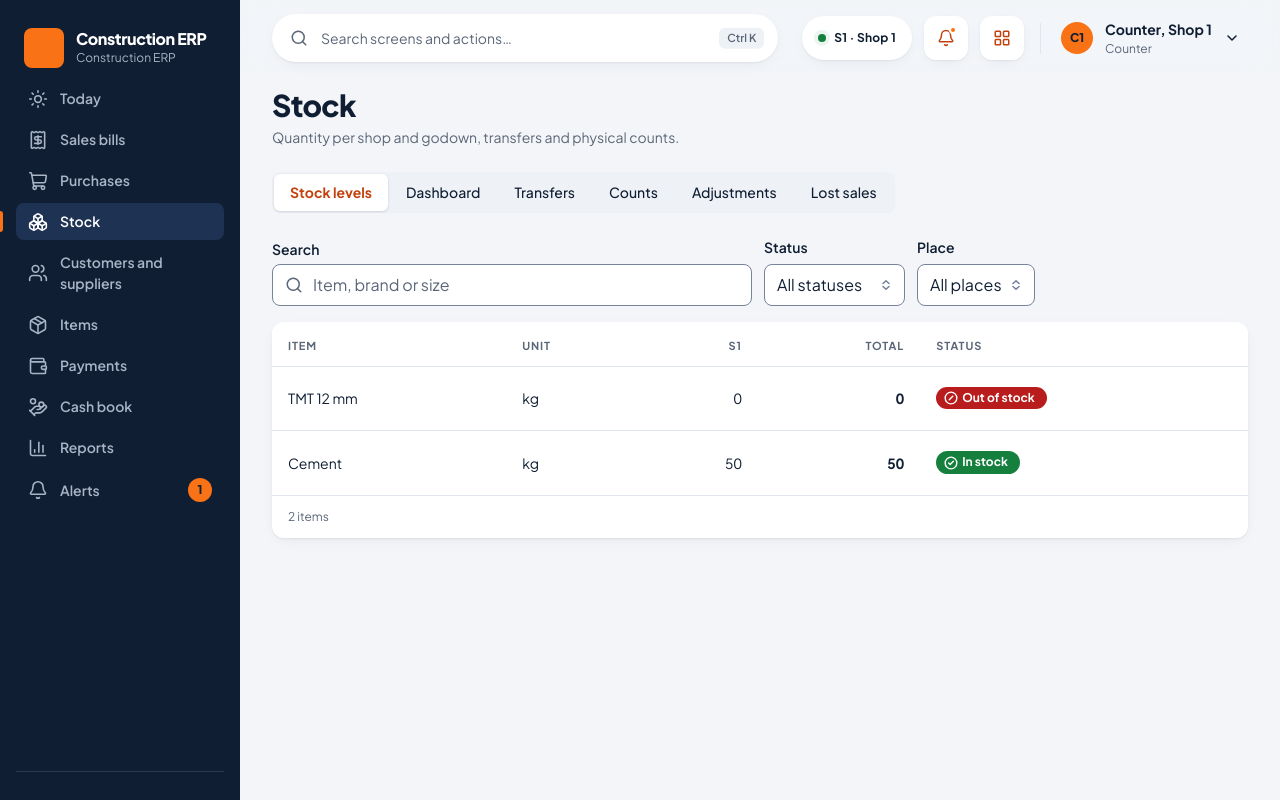
it: Every list keeps its filters in the URL › Stock: filters to what has run out, with a word on every row
Check: the text "Out of stock" is shown, box [936,387,1047,409]
Check: the text "In stock" is shown, box [936,451,1020,474]
Step 1. Select "Out of stock" in the dropdown labelled "Status" → (834, 284), box [764,264,905,306]
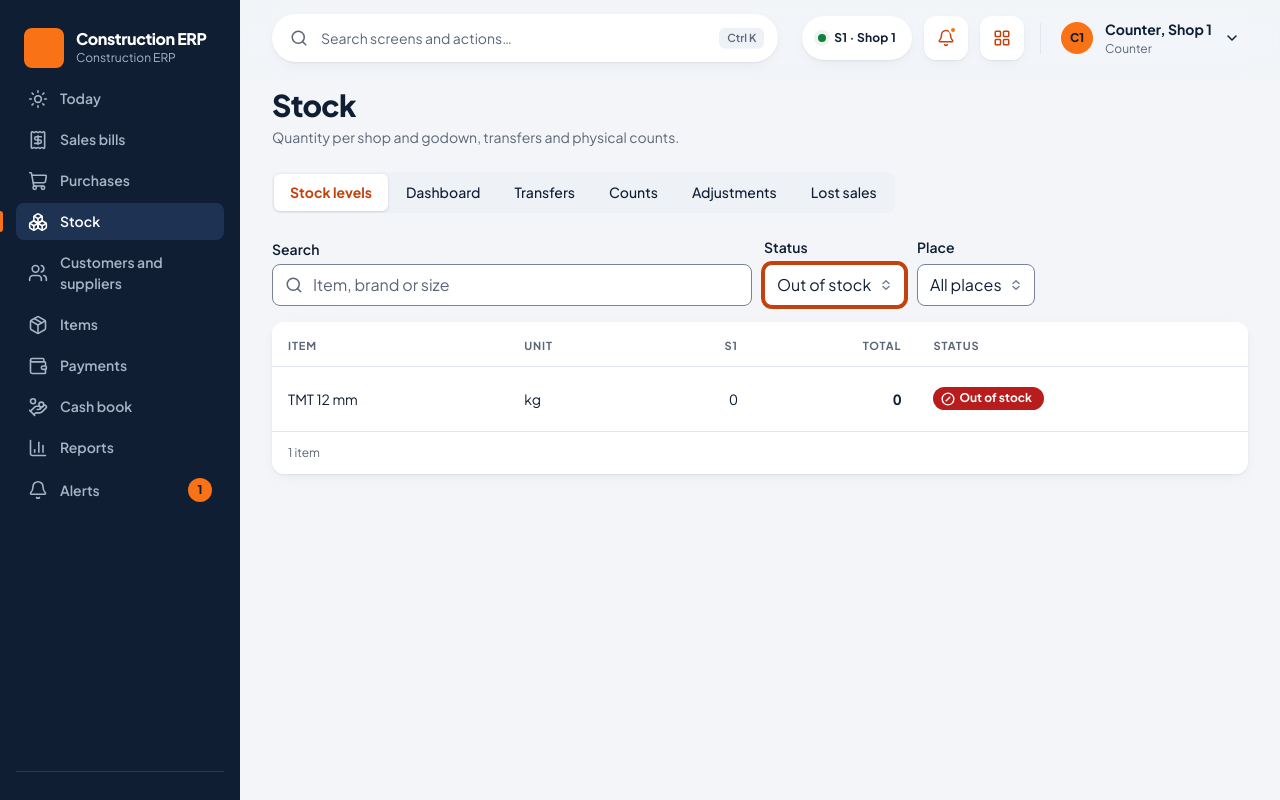
Check: the text "TMT 12 mm" is shown, box [272,367,508,431]
Check: the text "Cement" is gone
